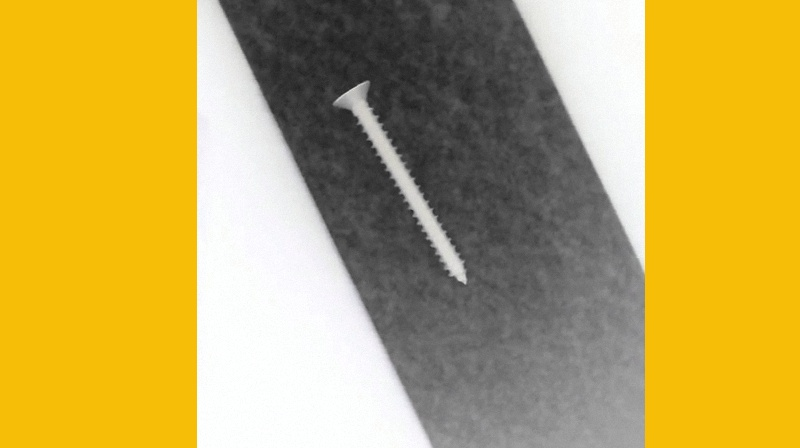S002: (330, 75, 470, 287)
